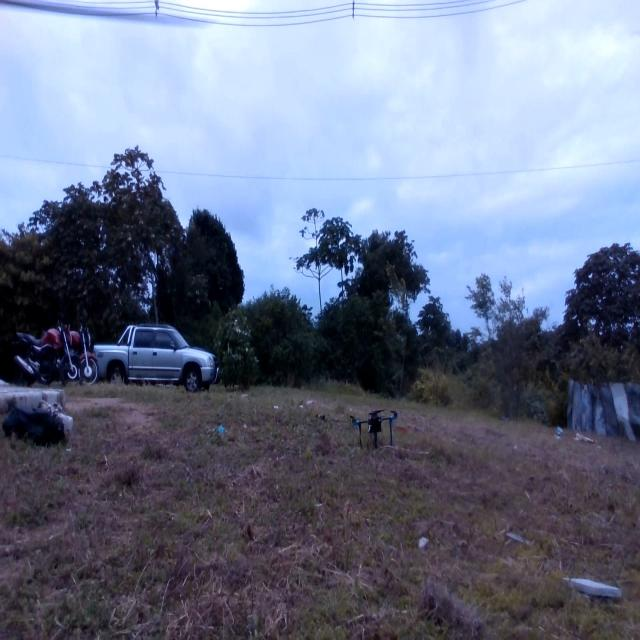-uav-: (349, 397, 401, 461)
